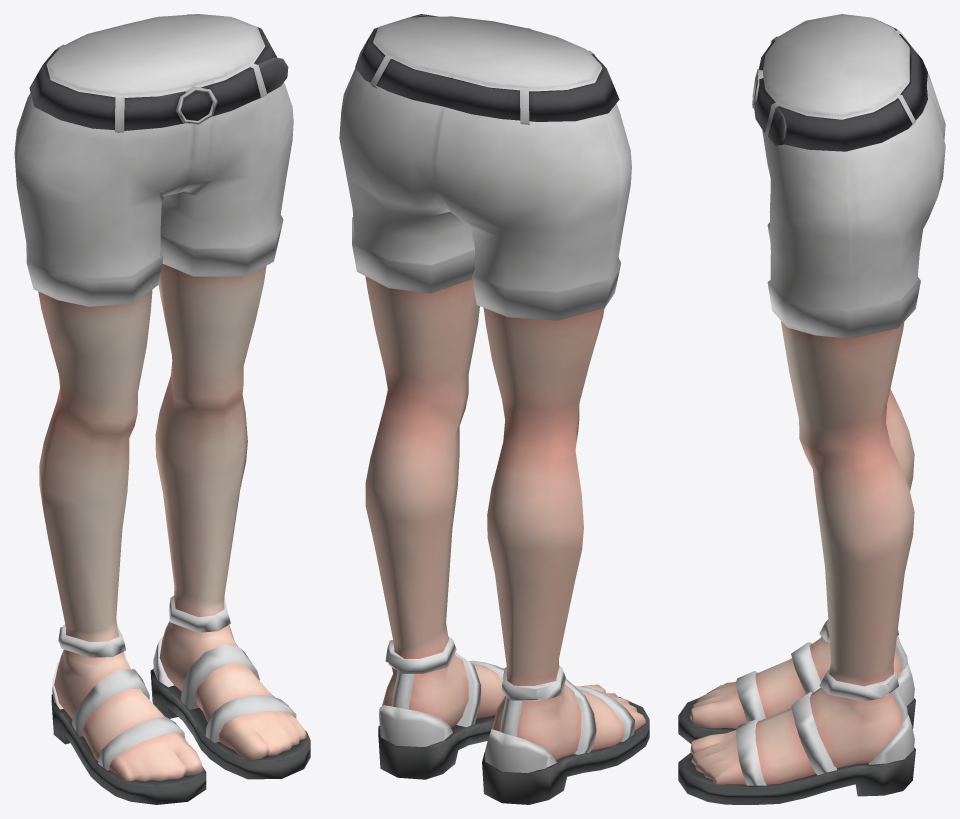
Rendered from tr0790_00_lwb01.gltf.
3 renders of one model, left to right at view 1: azimuth 30°, elevation 25°; view 2: azimuth 150°, elevation 25°; view 3: azimuth 270°, elevation 25°, orthographic. The views are drawn at different scales.
Visible parts, largest first — view 1: lwb01_lowerskin_mesh_shape:lowerbody01_skin, lwb01_lowerbody_mesh_shape:lowerbody01, lwb01_shoes_mesh_shape:lowerbody01; view 2: lwb01_lowerbody_mesh_shape:lowerbody01, lwb01_lowerskin_mesh_shape:lowerbody01_skin, lwb01_shoes_mesh_shape:lowerbody01; view 3: lwb01_lowerbody_mesh_shape:lowerbody01, lwb01_lowerskin_mesh_shape:lowerbody01_skin, lwb01_shoes_mesh_shape:lowerbody01.
Boxes of the visible parts, left/top/right/bottom form: lwb01_lowerskin_mesh_shape:lowerbody01_skin: left=38, top=263, right=306, bottom=781; lwb01_lowerbody_mesh_shape:lowerbody01: left=14, top=14, right=293, bottom=306; lwb01_shoes_mesh_shape:lowerbody01: left=51, top=595, right=310, bottom=804; lwb01_lowerbody_mesh_shape:lowerbody01: left=339, top=14, right=631, bottom=320; lwb01_lowerskin_mesh_shape:lowerbody01_skin: left=365, top=276, right=645, bottom=760; lwb01_shoes_mesh_shape:lowerbody01: left=378, top=637, right=649, bottom=804; lwb01_lowerbody_mesh_shape:lowerbody01: left=752, top=14, right=945, bottom=338; lwb01_lowerskin_mesh_shape:lowerbody01_skin: left=690, top=321, right=914, bottom=784; lwb01_shoes_mesh_shape:lowerbody01: left=678, top=619, right=915, bottom=804.
Size of what is drawn, in the model's own units: 0.384 by 0.9336 by 0.3255.
Materials: 2 (2 with a texture image).
